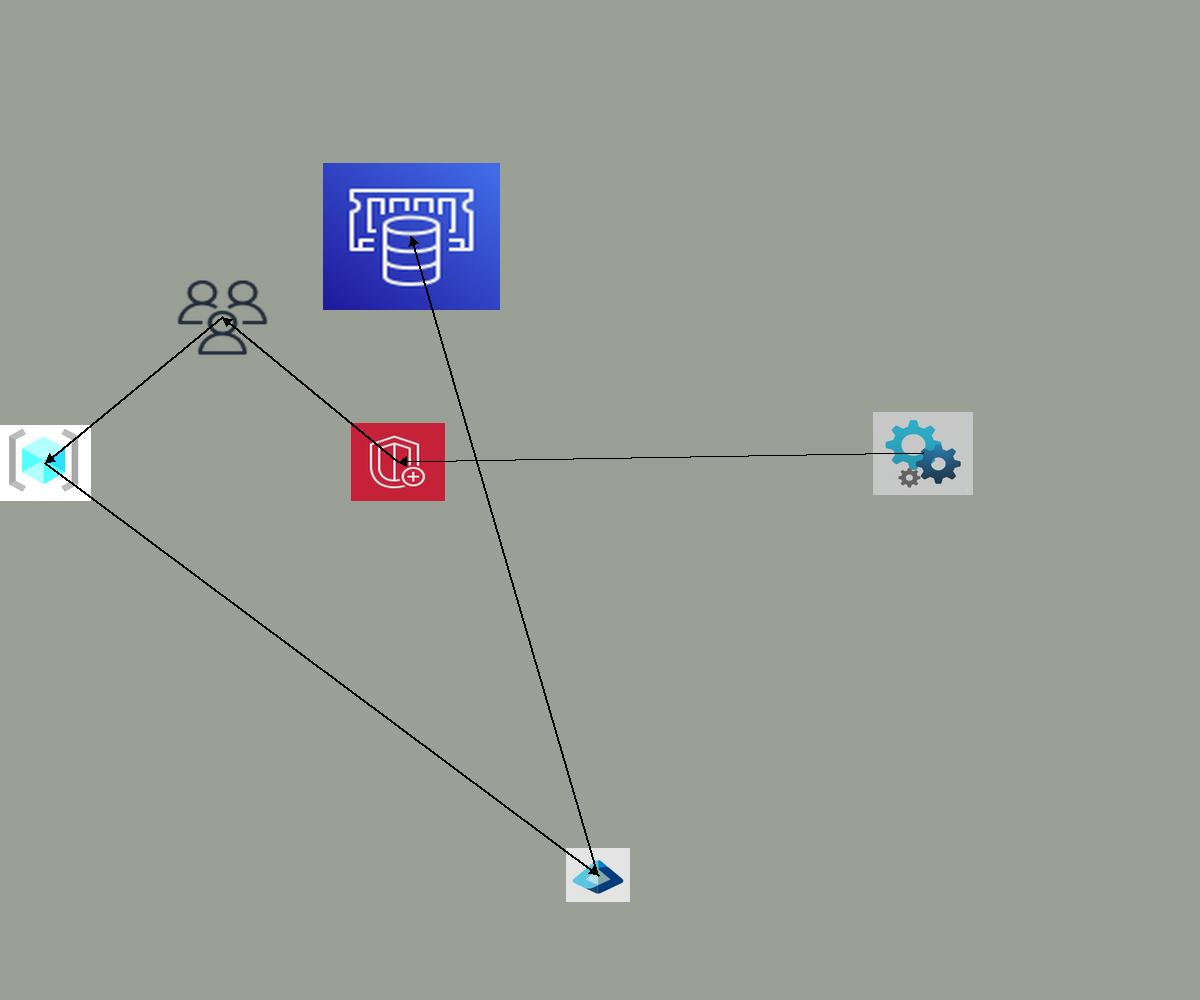AWS-ElastiCache: (323, 163, 500, 310)
AWS-Res_Users: (174, 277, 271, 358)
AWS-Shield: (351, 423, 445, 501)
Azure_api: (873, 412, 973, 495)
Azure_microsoft_entra: (566, 848, 630, 902)
Azure_resource_group: (0, 425, 91, 501)
